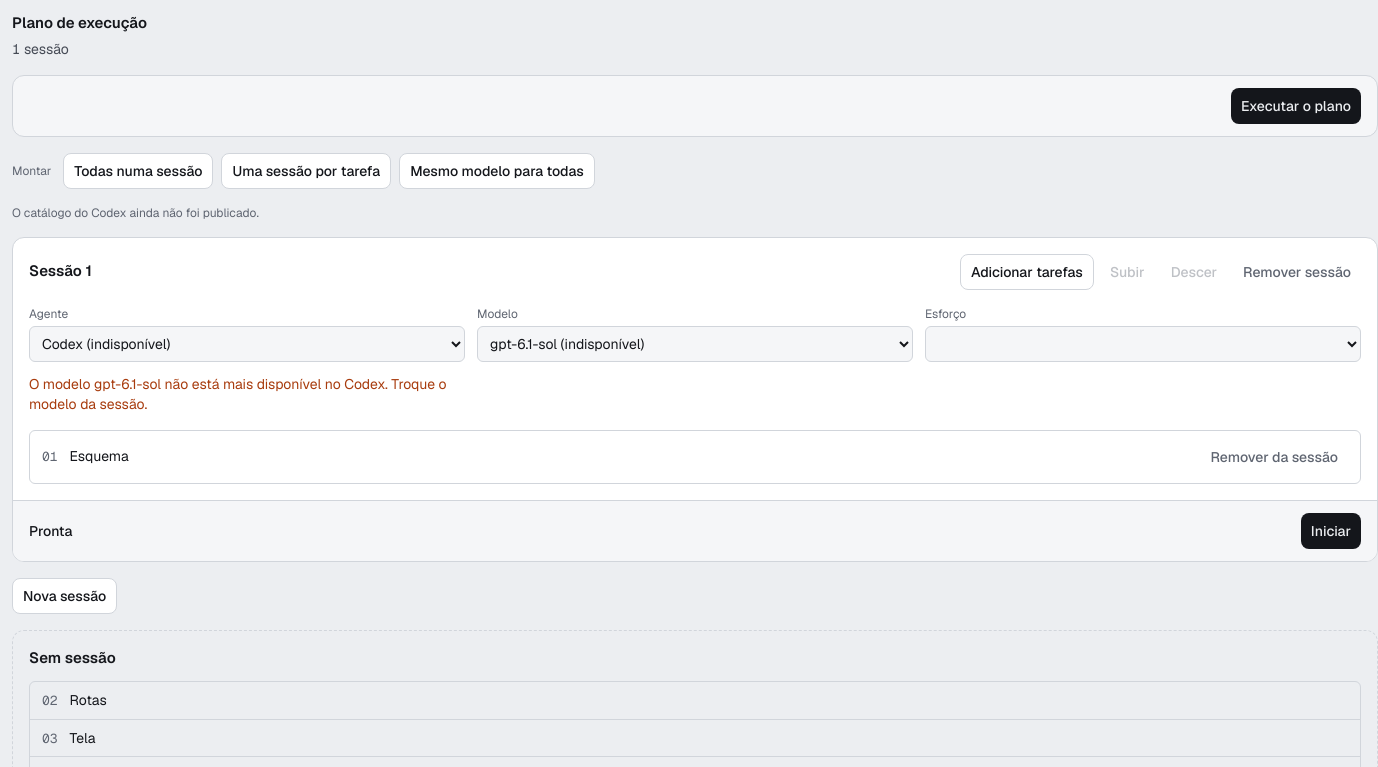
Test: ExecutionPlanEditor shortcuts and read-only › B-42 keeps the agent editable in the plan when a session was saved with an agent that is not available
The image size is (1378, 767).
Step 1. Select "Claude Code" in the dropdown labelled "Agente" → (247, 344), box top-left (29, 326), bottom-right (465, 362)
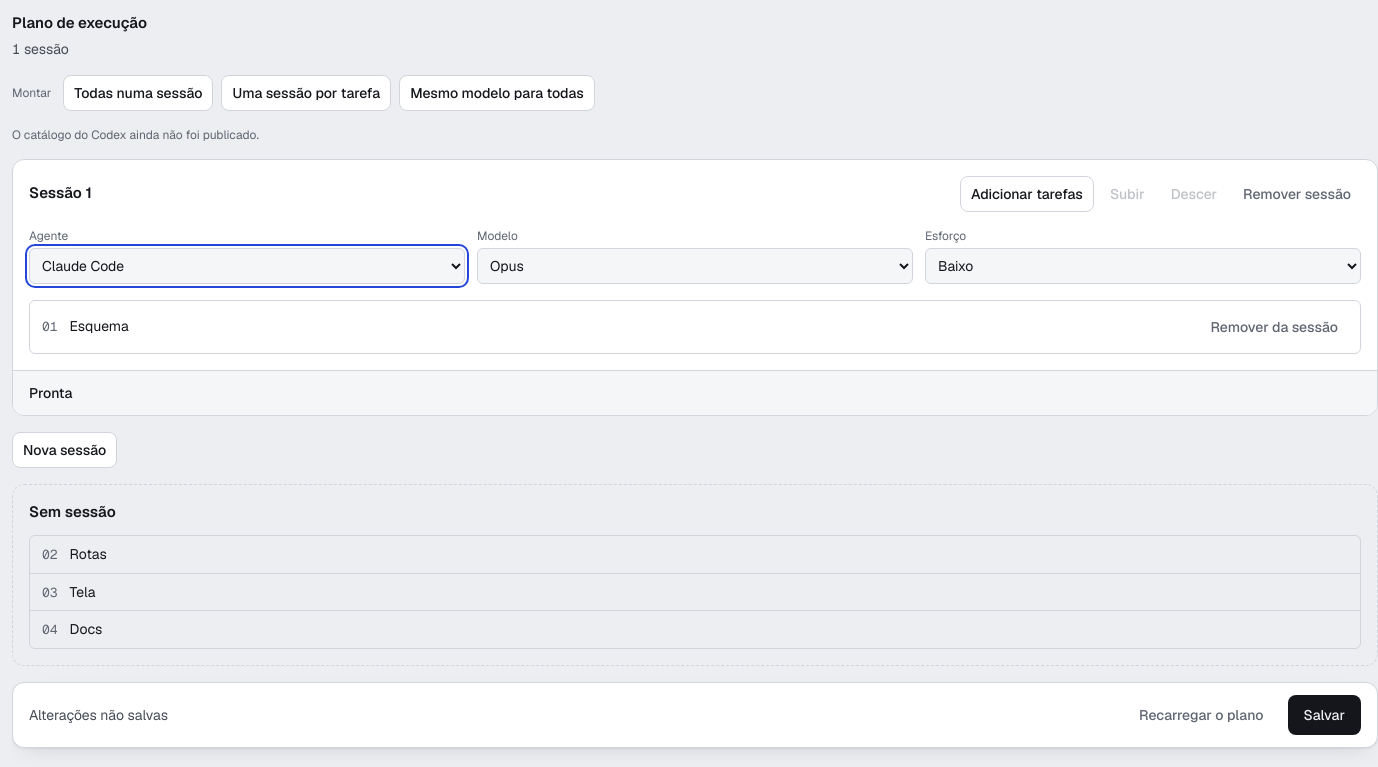
Expected: the button "Salvar" is enabled, top-left (1288, 695), bottom-right (1361, 735)
